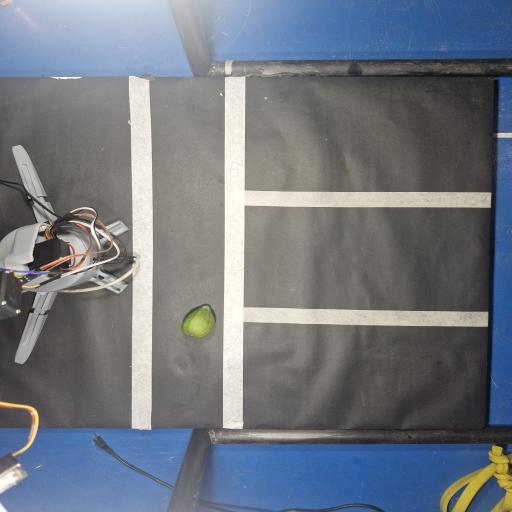higo: (182, 305, 215, 338)
